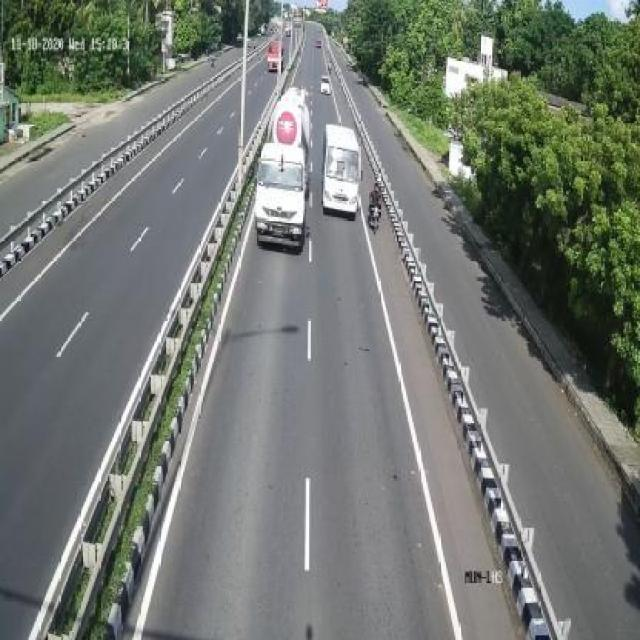car: (317, 116, 363, 222)
